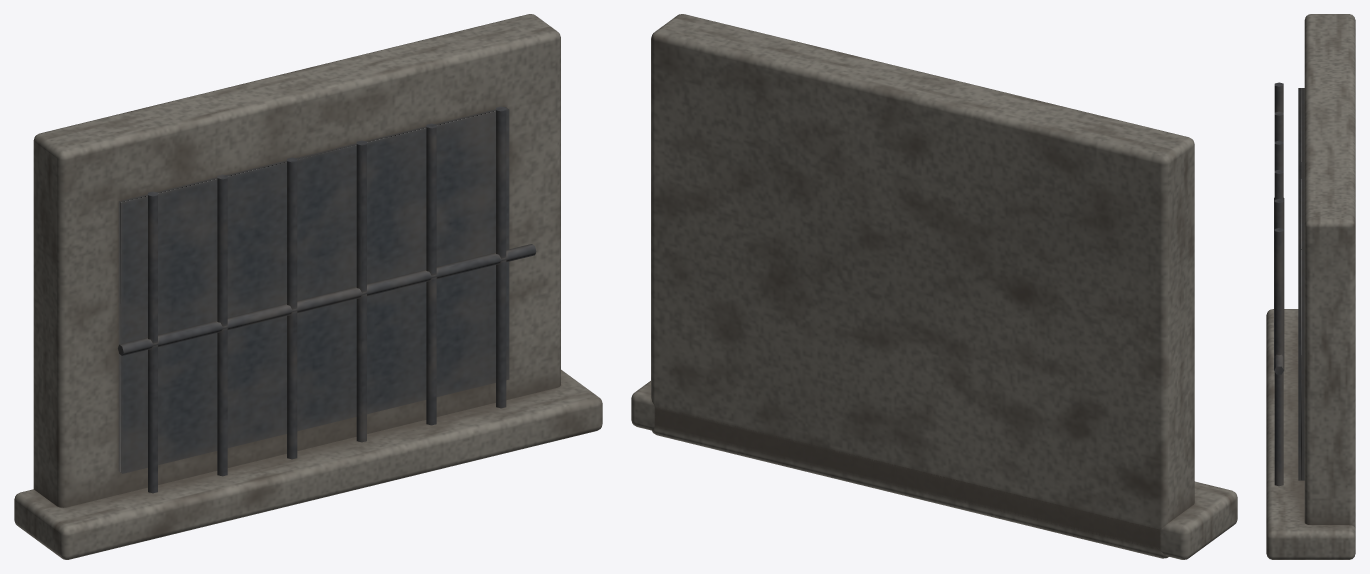
Rendered from par_piwnica.glb.
3 views of the same model, side by side, from view 1: azimuth 30°, elevation 25°; view 2: azimuth 150°, elevation 25°; view 3: azimuth 270°, elevation 25° (orthographic). The views are drawn at different scales.
Parts seen in each view (by area): view 1: Piwnica; view 2: Piwnica; view 3: Piwnica.
Part boxes in pixels (x1,y1,x2,y2): Piwnica: [14, 14, 602, 559]; Piwnica: [631, 14, 1237, 559]; Piwnica: [1266, 14, 1355, 559].
Bounding box in the file's own units: 0.84 × 0.58 × 0.14.
1 material, 1 textured.
